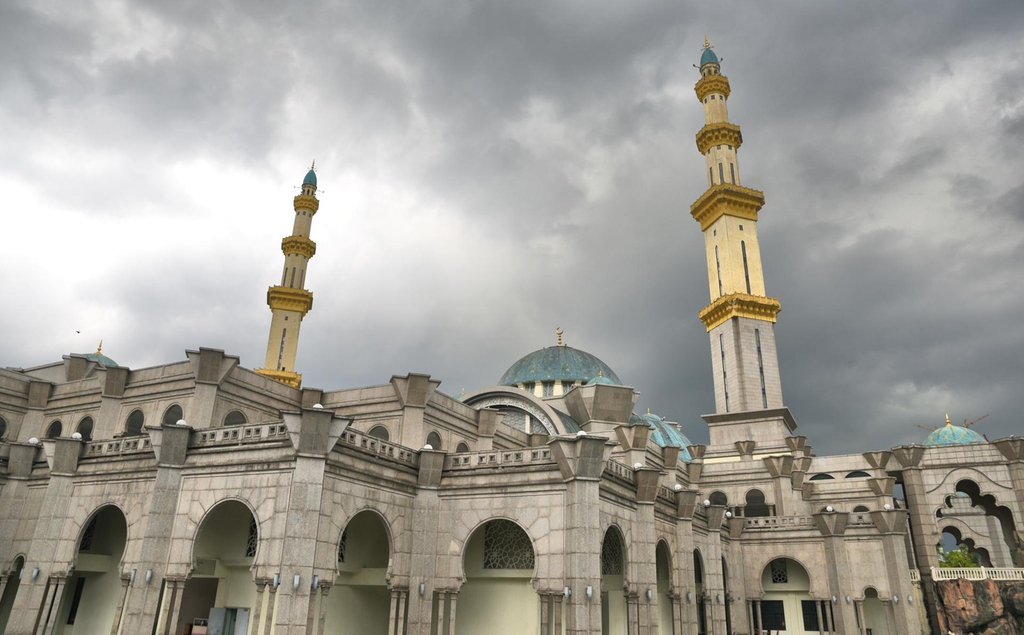Mosque: (1, 25, 1004, 632)
